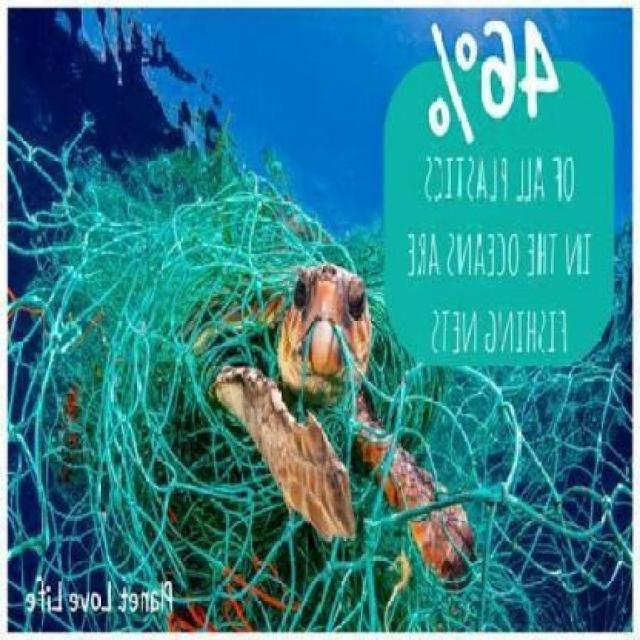net: (15, 154, 393, 626)
